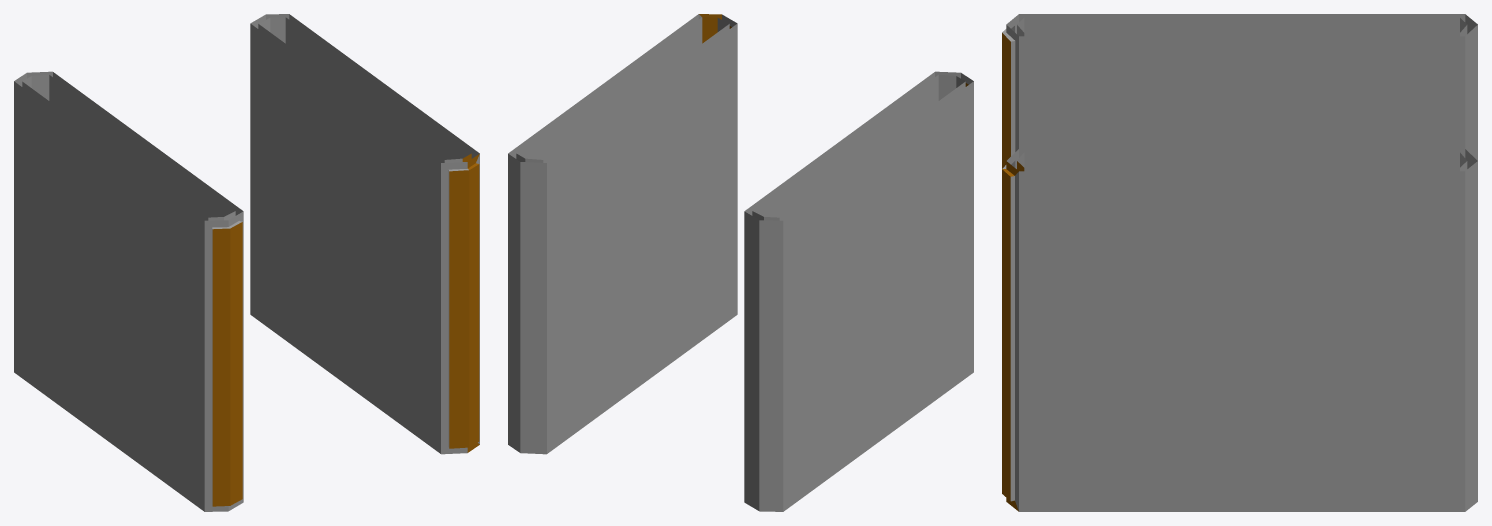
The model's file is Suporte Prensa.fbx.
3 views of the same model, side by side, from view 1: azimuth 30°, elevation 25°; view 2: azimuth 150°, elevation 25°; view 3: azimuth 270°, elevation 25° (orthographic). The views are drawn at different scales.
Visible parts, largest first — view 1: polySurface2; view 2: polySurface2; view 3: polySurface2.
Part boxes in pixels (x1,y1,x2,y2): polySurface2: (14,14,479,511); polySurface2: (508,14,973,511); polySurface2: (1002,14,1477,511).
Size of the model in its own units: 0.4163 by 0.4209 by 0.5327.
